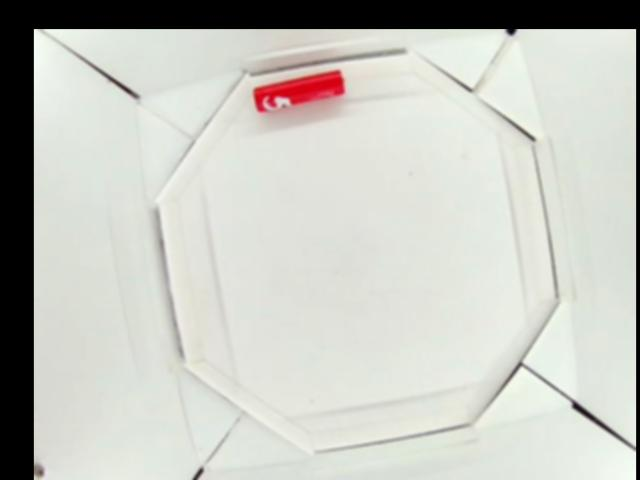Battery: (252, 69, 344, 110)
